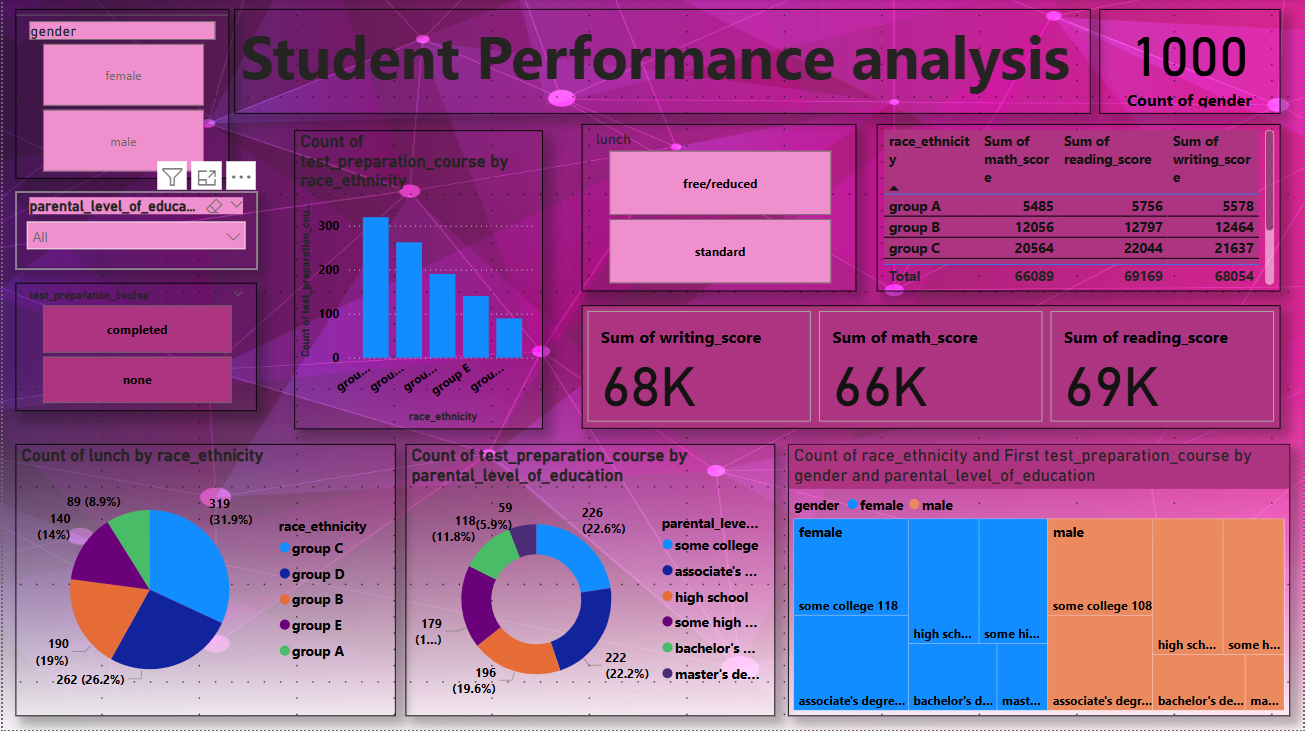

Layout of this report page (visuals, bound fields, positions):
{"tool":"powerbi","page":{"name":"Student","canvas":[1280,720],"ordinal":0},"visuals":[{"type":"slicer","fields":{"Values":["study_performance.gender"]},"box":[12.3,9.8,210.5,167.4],"z":0},{"type":"pieChart","fields":{"Category":["study_performance.race_ethnicity"],"Y":["CountNonNull(study_performance.lunch)"]},"box":[12.3,438.2,374.2,268.3],"z":1000},{"type":"textbox","box":[227.7,9.8,843.1,103.4],"z":2000},{"type":"lineStackedColumnComboChart","fields":{"Category":["study_performance.race_ethnicity"],"Y":["CountNonNull(study_performance.test_preparation_course)"]},"box":[286.8,129.2,244.9,294.2],"z":3000},{"type":"cardVisual","fields":{"Data":["Sum(study_performance.writing_score)","Sum(study_performance.math_score)","Sum(study_performance.reading_score)"]},"box":[569.8,301.5,688,121.8],"z":4000},{"type":"donutChart","fields":{"Category":["study_performance.parental_level_of_education"],"Y":["CountNonNull(study_performance.test_preparation_course)"]},"box":[396.3,438.2,364.3,268.3],"z":5000},{"type":"treemap","fields":{"Group":["study_performance.gender"],"Details":["study_performance.parental_level_of_education"],"Values":["CountNonNull(study_performance.race_ethnicity)"]},"box":[772.9,438.2,494.8,268.3],"z":6000},{"type":"card","fields":{"Values":["CountNonNull(study_performance.gender)"]},"box":[1079.4,9.8,178.5,103.4],"z":7000},{"type":"slicer","fields":{"Values":["study_performance.parental_level_of_education"]},"box":[12.3,189.5,237.5,76.3],"z":8000},{"type":"slicer","fields":{"Values":["study_performance.test_preparation_course"]},"box":[12.3,279.4,237.5,126.8],"z":9000},{"type":"slicer","fields":{"Values":["study_performance.lunch"]},"box":[569.8,123.1,270.8,164.9],"z":10000},{"type":"tableEx","fields":{"Values":["study_performance.race_ethnicity","Sum(study_performance.math_score)","Sum(study_performance.reading_score)","Sum(study_performance.writing_score)"]},"box":[860.3,123.1,397.5,164.9],"z":11000}]}

Visuals, with their boxes in screenshot pixels (x1, y1, x2, y2), scaled from the page's 1280x720 canvas onto the 1305x731 screenshot:
slicer - study_performance.gender: [13,10,227,180]
pieChart - study_performance.race_ethnicity x CountNonNull(study_performance.lunch): [13,445,394,717]
textbox: [232,10,1092,115]
lineStackedColumnComboChart - study_performance.race_ethnicity x CountNonNull(study_performance.test_preparation_course): [292,131,542,430]
cardVisual - Sum(study_performance.writing_score) x Sum(study_performance.math_score): [581,306,1282,430]
donutChart - study_performance.parental_level_of_education x CountNonNull(study_performance.test_preparation_course): [404,445,775,717]
treemap - study_performance.gender x study_performance.parental_level_of_education: [788,445,1292,717]
card - CountNonNull(study_performance.gender): [1100,10,1282,115]
slicer - study_performance.parental_level_of_education: [13,192,255,270]
slicer - study_performance.test_preparation_course: [13,284,255,412]
slicer - study_performance.lunch: [581,125,857,292]
tableEx - study_performance.race_ethnicity x Sum(study_performance.math_score): [877,125,1282,292]
